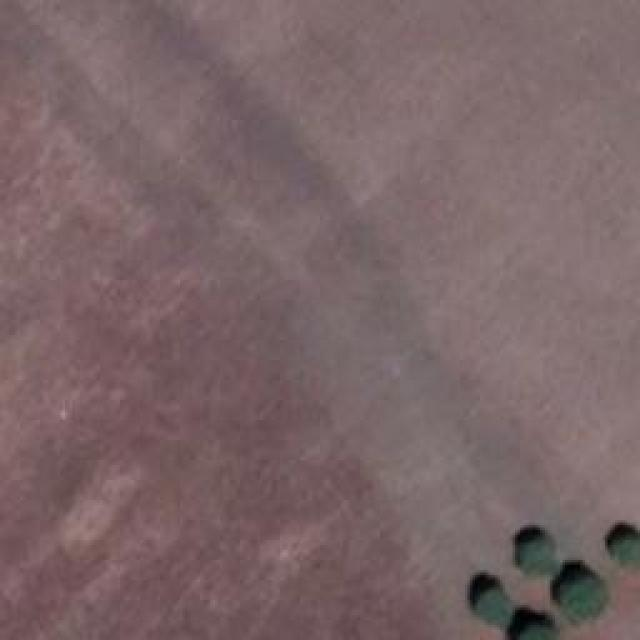Tree: (555, 573, 605, 618), (520, 535, 550, 575), (478, 583, 508, 623), (510, 620, 558, 640), (612, 538, 640, 568)
